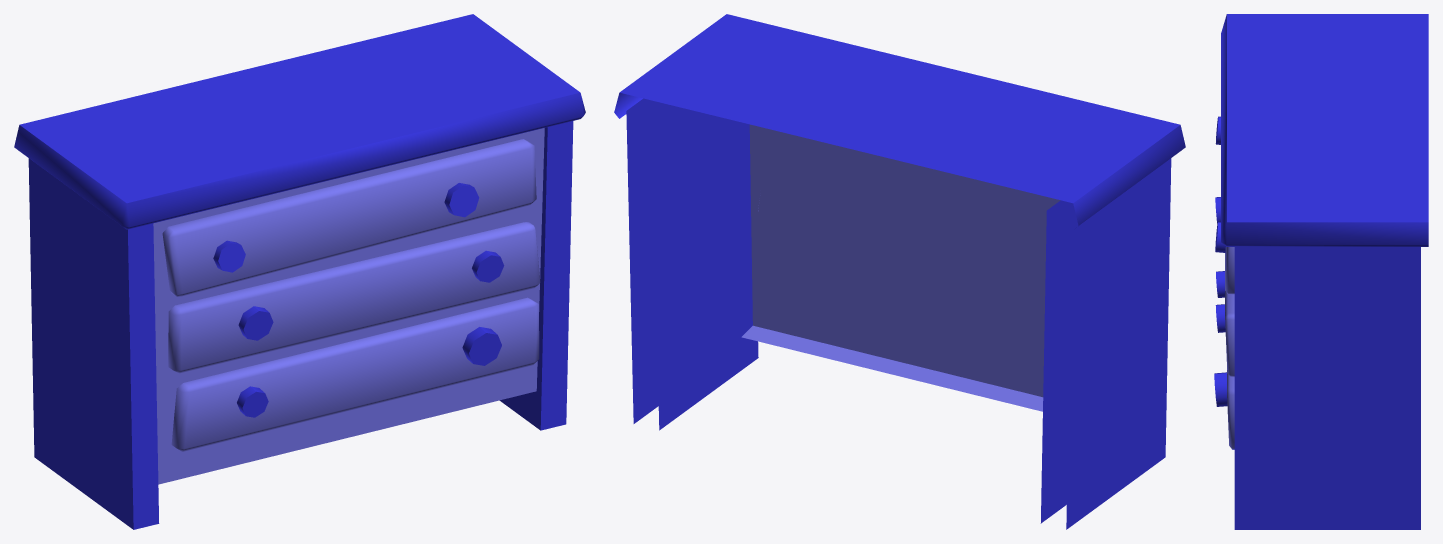
File: chestDrawers.FBX
3 renders of one model, left to right at view 1: azimuth 30°, elevation 25°; view 2: azimuth 150°, elevation 25°; view 3: azimuth 270°, elevation 25°, orthographic. The views are drawn at different scales.
Visible parts, largest first — view 1: chestDrawers; view 2: chestDrawers; view 3: chestDrawers.
Part boxes in pixels (bbox=[...]): chestDrawers: bbox=[14, 14, 585, 529]; chestDrawers: bbox=[614, 14, 1185, 529]; chestDrawers: bbox=[1214, 14, 1428, 529].
Size of the model in its own units: 5.28 by 3.61 by 2.25.
